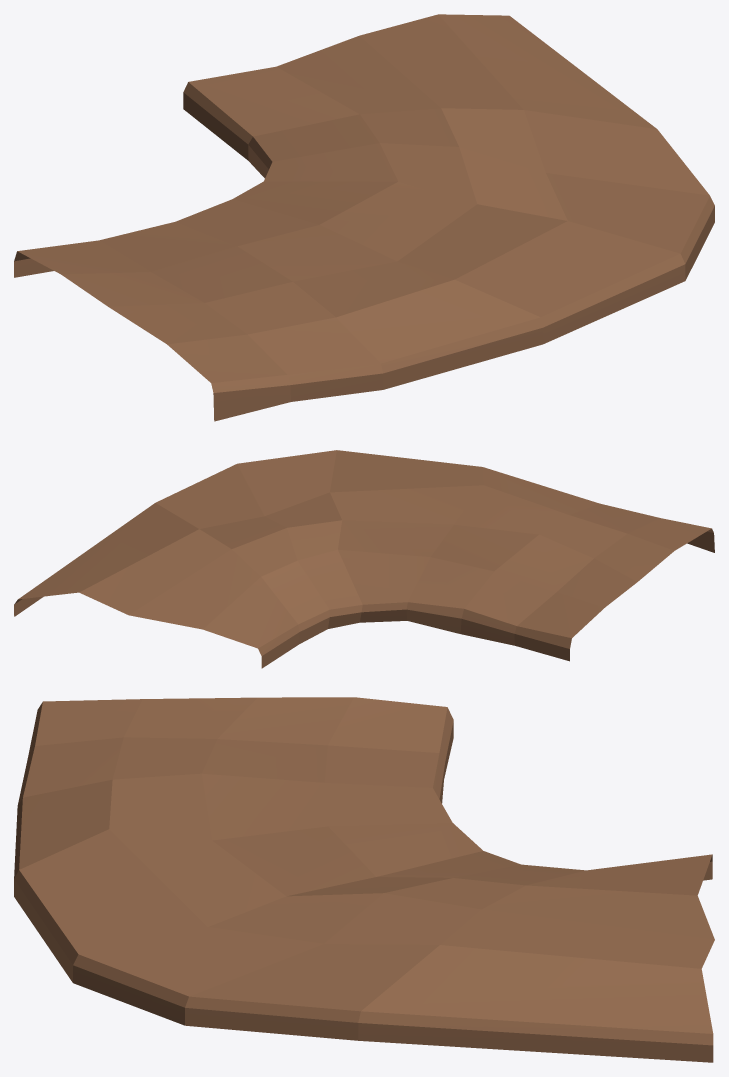
The model's file is RoadTile_10.fbx.
The picture shows the model from 3 angles, top to bottom: view 1: azimuth 30°, elevation 25°; view 2: azimuth 150°, elevation 25°; view 3: azimuth 270°, elevation 25°; orthographic projection. The views are drawn at different scales.
Visible parts, largest first — view 1: RoadTile_10; view 2: RoadTile_10; view 3: RoadTile_10.
Boxes of the visible parts, <box> form: RoadTile_10: <box>14,14,714,421</box>; RoadTile_10: <box>14,450,714,668</box>; RoadTile_10: <box>14,697,714,1062</box>.
Size of the model in its own units: 747 by 68.39 by 687.
